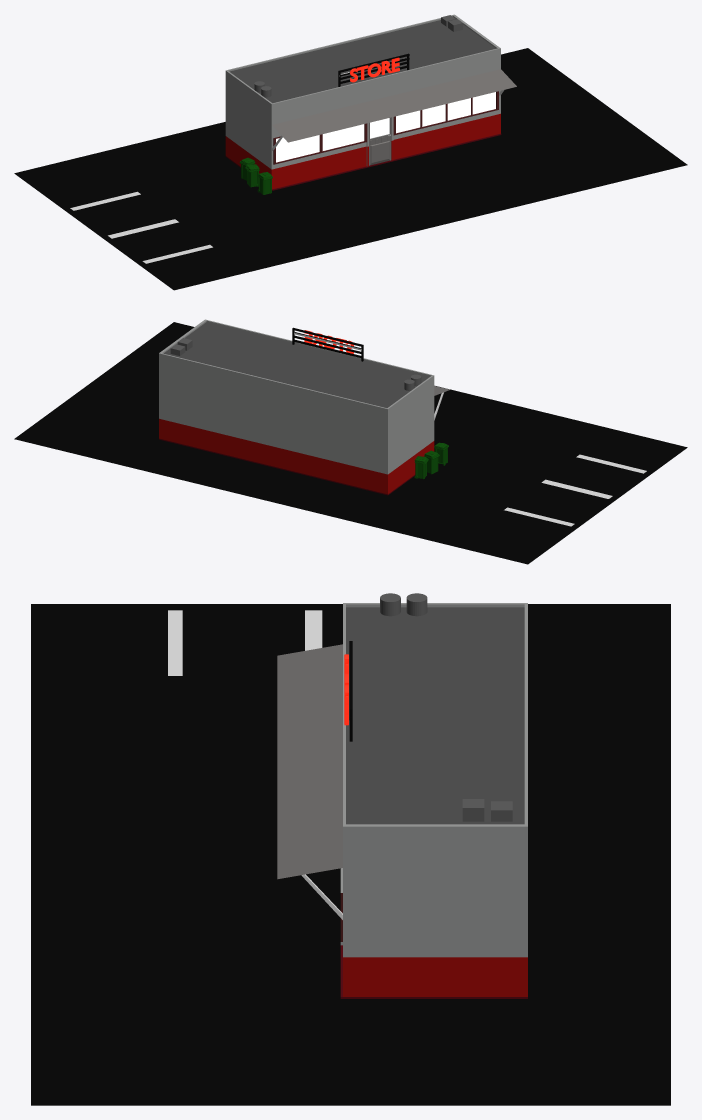
Rendered from store.fbx.
3 renders of one model, top to bottom at view 1: azimuth 30°, elevation 25°; view 2: azimuth 150°, elevation 25°; view 3: azimuth 270°, elevation 25°, orthographic. The views are drawn at different scales.
Visible parts, largest first — view 1: Plane, Cube, Cube.008; view 2: Plane, Cube, Cube.008; view 3: Plane, Cube, Cube.008.
Part boxes in pixels (x1,y1,x2,y2): Plane: (14, 48, 687, 290); Cube: (225, 14, 516, 190); Cube.008: (338, 53, 409, 86); Plane: (14, 322, 687, 564); Cube: (159, 319, 449, 495); Cube.008: (292, 327, 363, 361); Plane: (31, 604, 670, 1105); Cube: (277, 603, 527, 998); Cube.008: (344, 641, 352, 741).
Size of the model in its own units: 1283 by 243 by 691.
